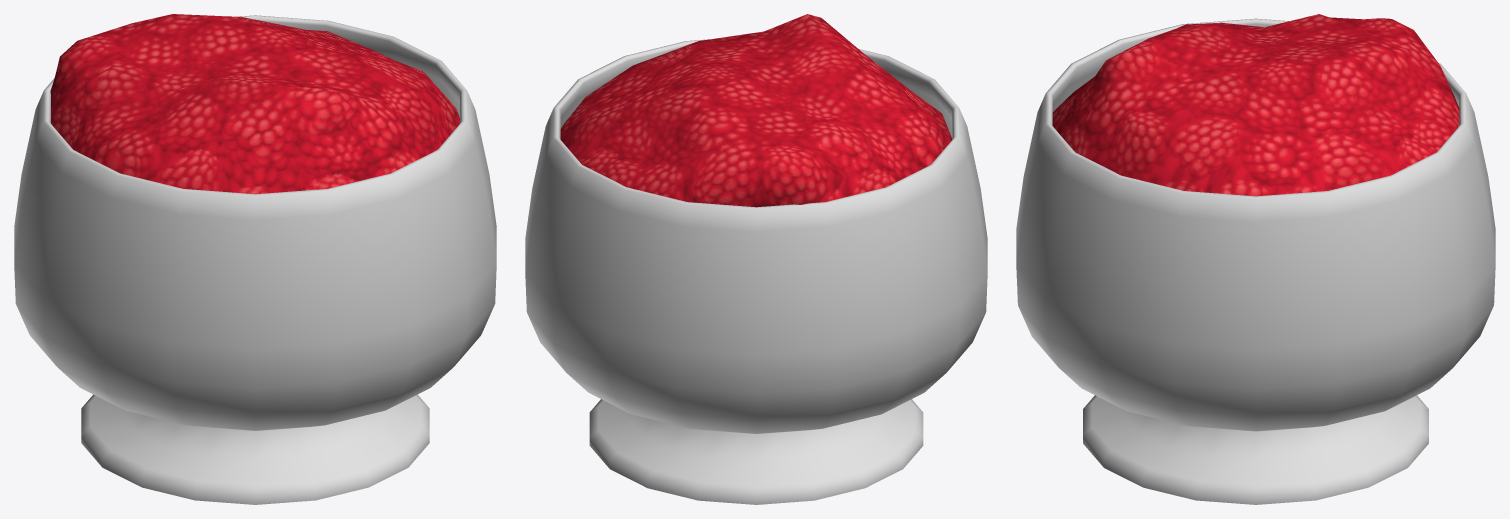
File: BuffetBerries02_3.FBX
3 views of the same model, side by side, from view 1: azimuth 30°, elevation 25°; view 2: azimuth 150°, elevation 25°; view 3: azimuth 270°, elevation 25° (orthographic). The views are drawn at different scales.
Parts seen in each view (by area): view 1: BuffetBerries02_3; view 2: BuffetBerries02_3; view 3: BuffetBerries02_3.
Boxes of the visible parts, x1,y1,x2,y2 form: BuffetBerries02_3: (14, 14, 496, 504); BuffetBerries02_3: (525, 14, 987, 504); BuffetBerries02_3: (1016, 14, 1495, 504).
Size of what is drawn, in the model's own units: 0.2356 by 0.2046 by 0.232.
